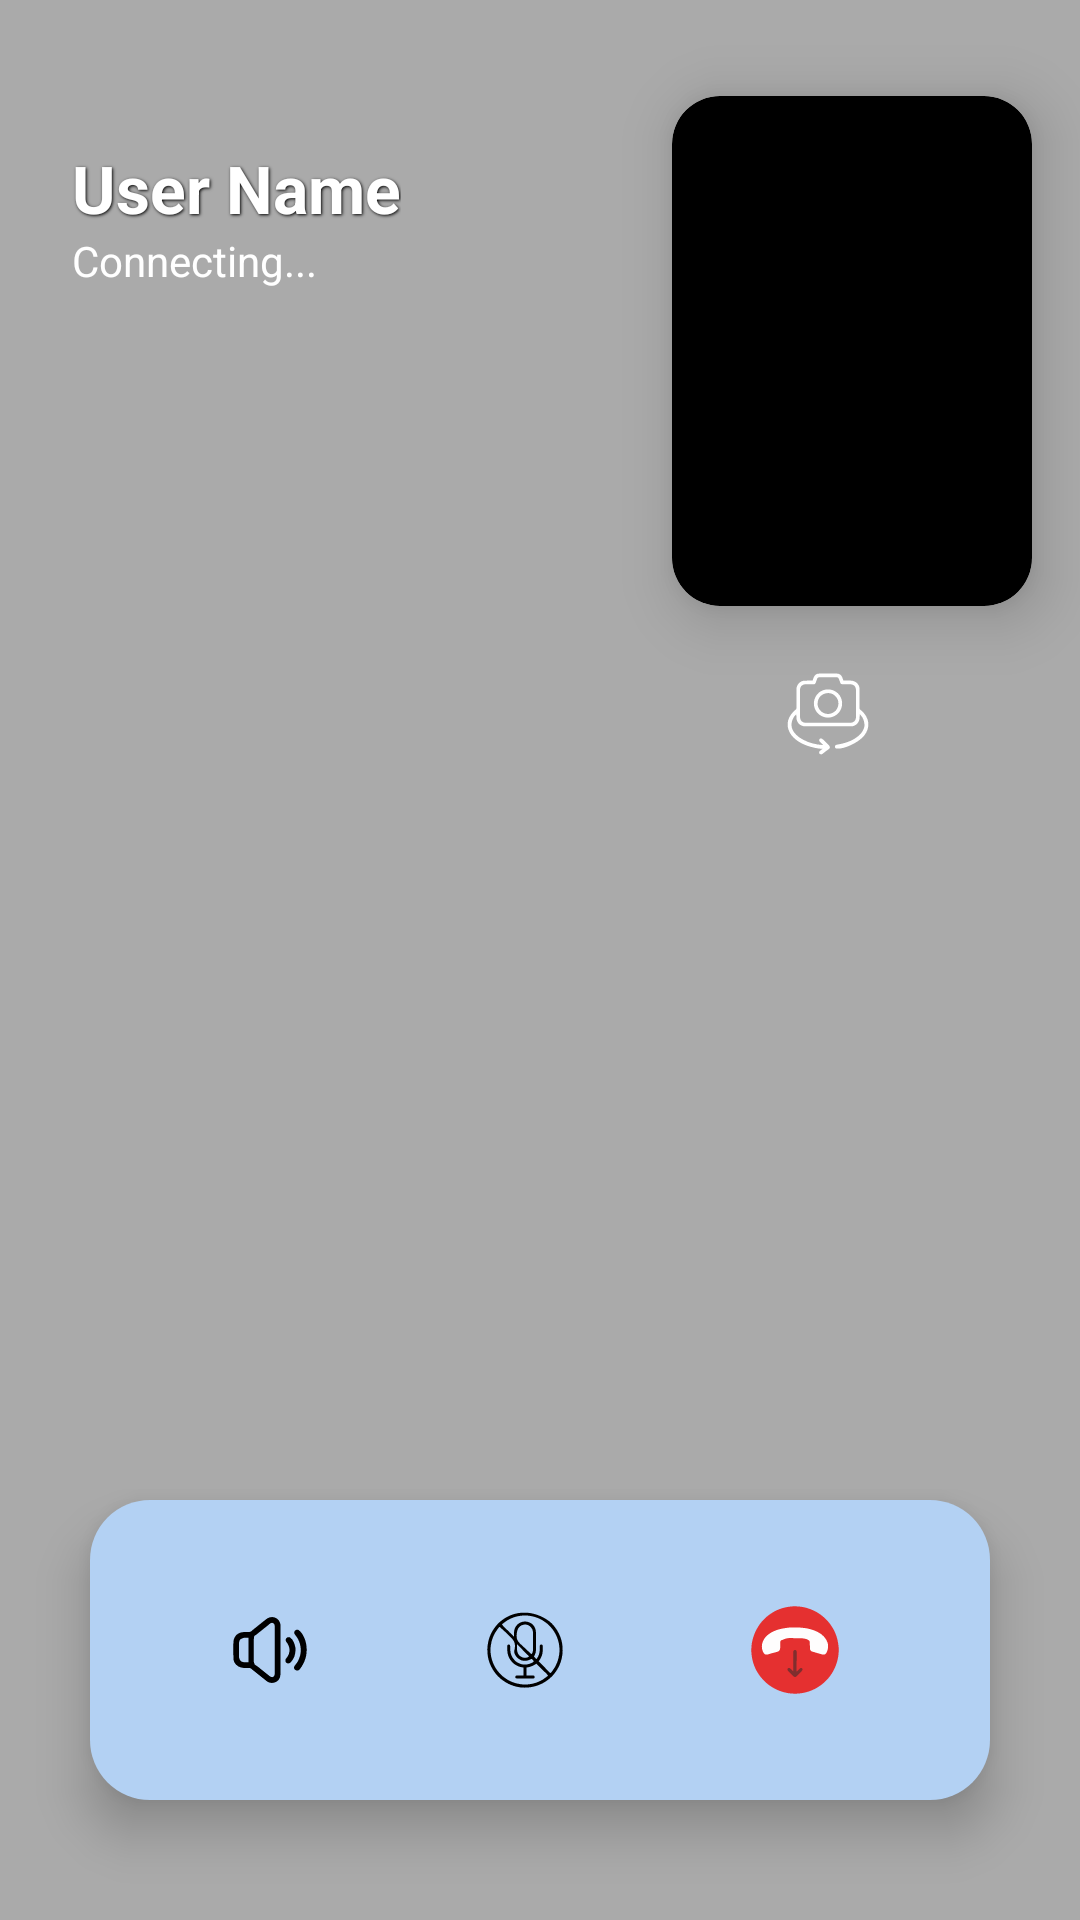

Screen size 1080×1920. Icon name, then its center in pixels as point (x, y):
hang up: point (795, 1650)
mute: point (525, 1650)
switch camera: point (828, 714)
volume: point (270, 1650)
